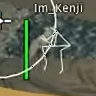hacks_2: (23, 18, 72, 79)
